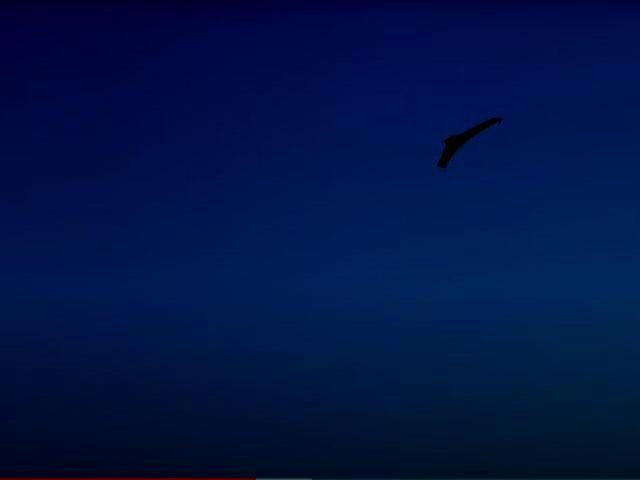iha: (436, 113, 507, 172)
